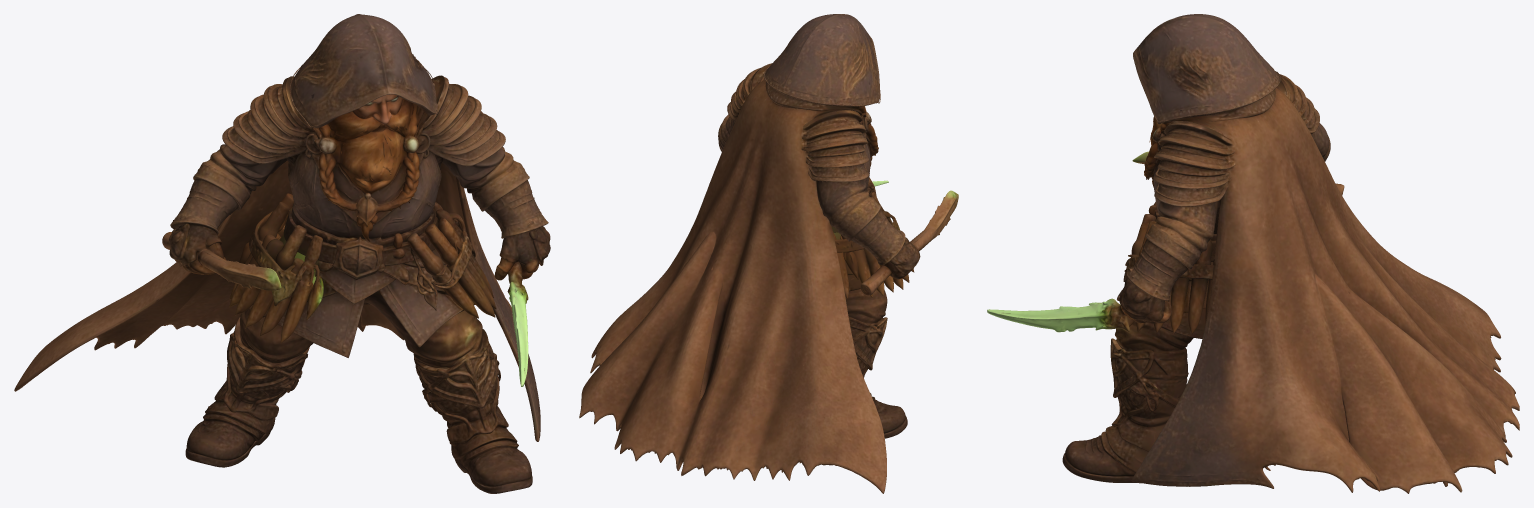
File: dwarf_rogue_full_male_01.glb
3 views of the same model, side by side, from view 1: azimuth 30°, elevation 25°; view 2: azimuth 150°, elevation 25°; view 3: azimuth 270°, elevation 25° (orthographic). The views are drawn at different scales.
Parts seen in each view (by area): view 1: material; view 2: material; view 3: material.
Boxes of the visible parts, box(x1,y1,x2,y2) form: material: box(14, 14, 550, 493); material: box(579, 14, 958, 493); material: box(987, 14, 1519, 493).
Bounding box in the file's own units: 0.7242 × 0.7545 × 0.8527.
1 material, 1 textured.
